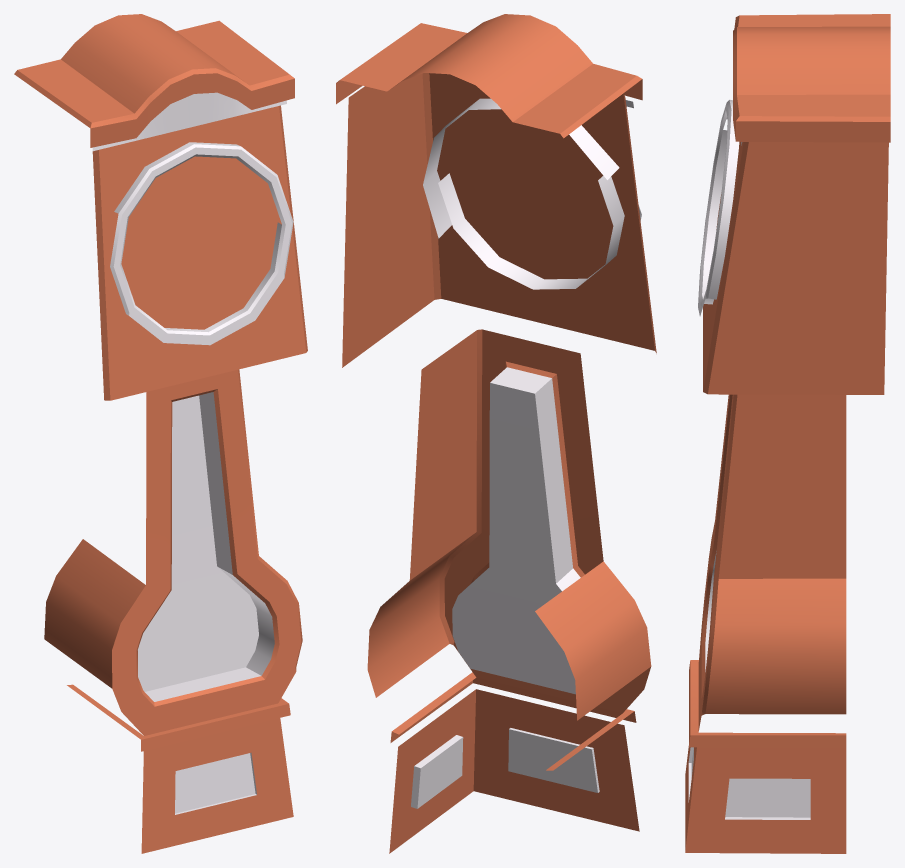
The model's file is propsMaison_Clock.fbx.
The picture shows the model from 3 angles, left to right: view 1: azimuth 30°, elevation 25°; view 2: azimuth 150°, elevation 25°; view 3: azimuth 270°, elevation 25°; orthographic projection. The views are drawn at different scales.
Parts seen in each view (by area): view 1: Cube.005; view 2: Cube.005; view 3: Cube.005.
Part boxes in pixels (x1,y1,x2,y2): Cube.005: (14, 14, 307, 853); Cube.005: (336, 14, 656, 853); Cube.005: (685, 14, 890, 853).
Bounding box in the file's own units: 274 × 941 × 225.
